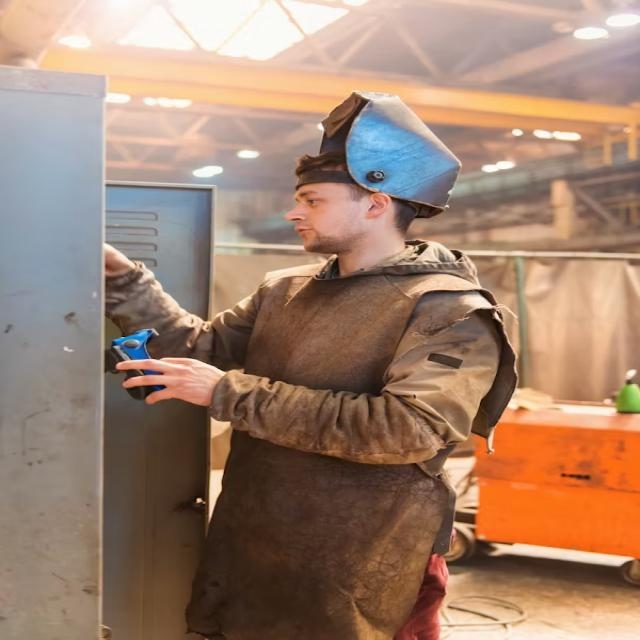helmet_lifted: (283, 74, 467, 256)
